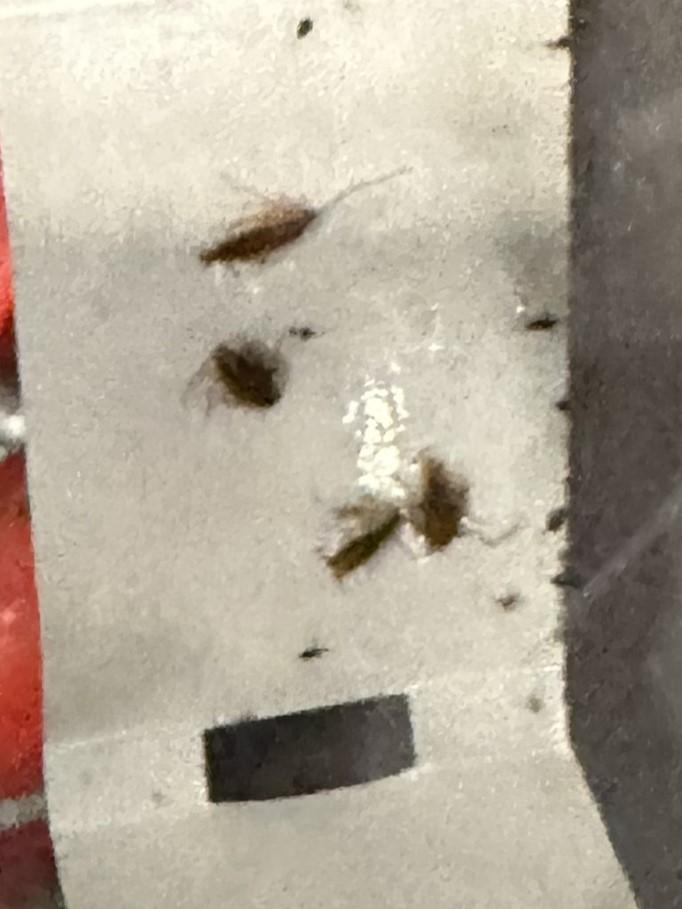cockroach: (132, 140, 482, 285), (368, 448, 535, 584), (170, 314, 326, 448), (280, 484, 422, 618)
